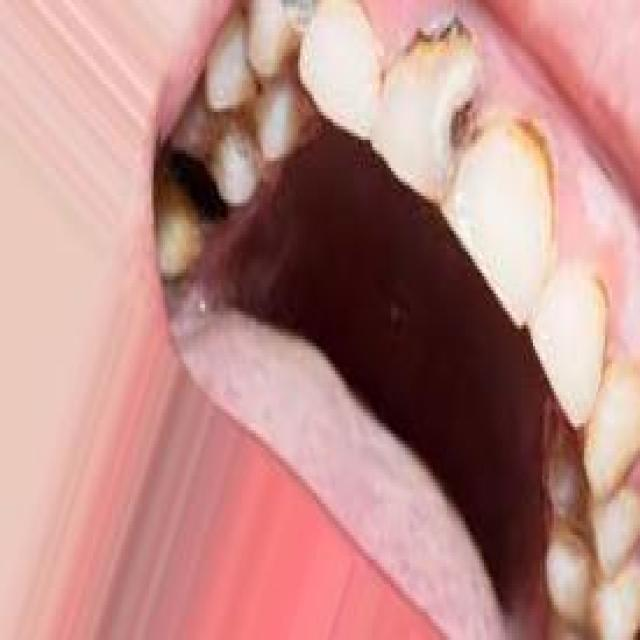caries: (404, 70, 509, 200), (160, 131, 245, 246), (395, 0, 484, 73)
